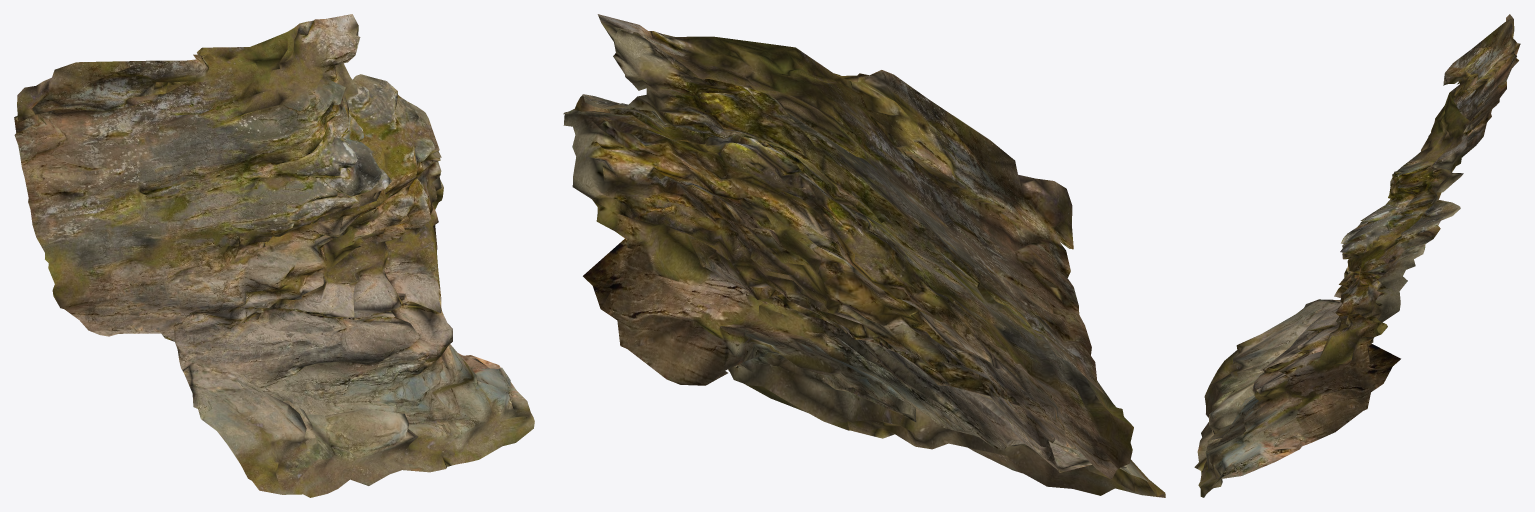
The model's file is rock_face_02-lod1.glb.
3 renders of one model, left to right at view 1: azimuth 30°, elevation 25°; view 2: azimuth 150°, elevation 25°; view 3: azimuth 270°, elevation 25°, orthographic. The views are drawn at different scales.
Visible parts, largest first — view 1: rock_face_02; view 2: rock_face_02; view 3: rock_face_02.
Part boxes in pixels (left/top/right/bottom): rock_face_02: left=14, top=14, right=534, bottom=497; rock_face_02: left=563, top=14, right=1165, bottom=497; rock_face_02: left=1194, top=14, right=1520, bottom=497.
Bounding box in the file's own units: 2.71 × 2.47 × 2.13.
Materials: 1 (1 with a texture image).
